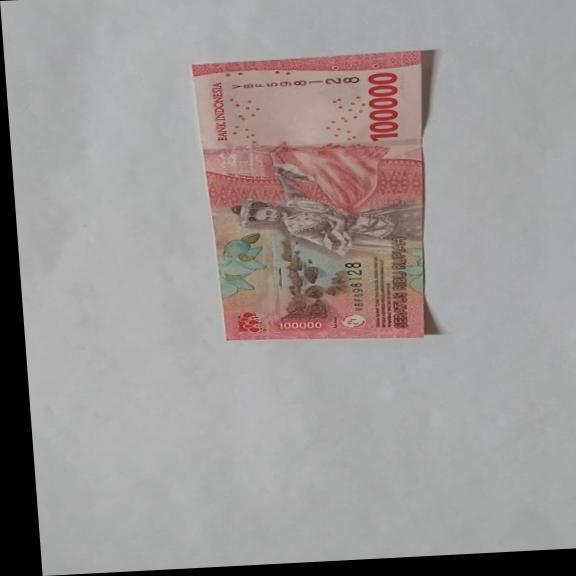Kertas: (191, 50, 452, 348), (362, 70, 404, 142)
